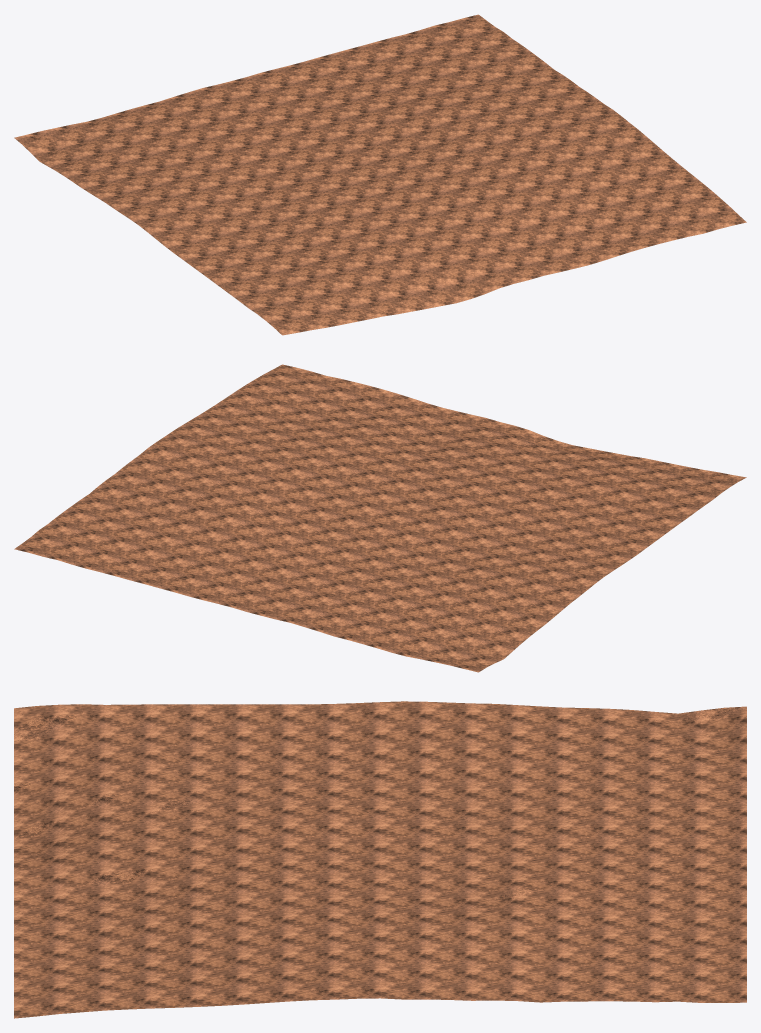
The model's file is terrain_08_19.dae.
3 renders of one model, top to bottom at view 1: azimuth 30°, elevation 25°; view 2: azimuth 150°, elevation 25°; view 3: azimuth 270°, elevation 25°, orthographic. The views are drawn at different scales.
Visible parts, largest first — view 1: terrain_08_19-node; view 2: terrain_08_19-node; view 3: terrain_08_19-node.
Boxes of the visible parts, box(x1,y1,x2,y2) form: terrain_08_19-node: box(14, 14, 746, 335); terrain_08_19-node: box(14, 364, 746, 672); terrain_08_19-node: box(14, 701, 746, 1018).
Bounding box in the file's own units: 128 × 128 × 6.48.
1 material, 1 textured.
